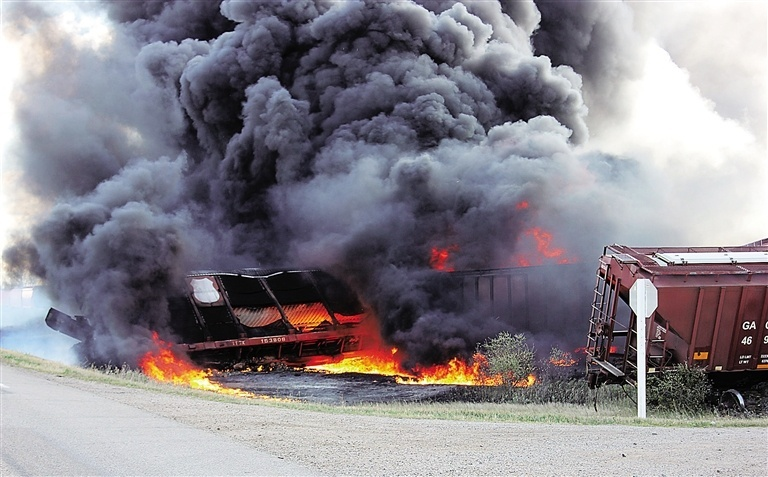fire: (123, 340, 559, 402)
